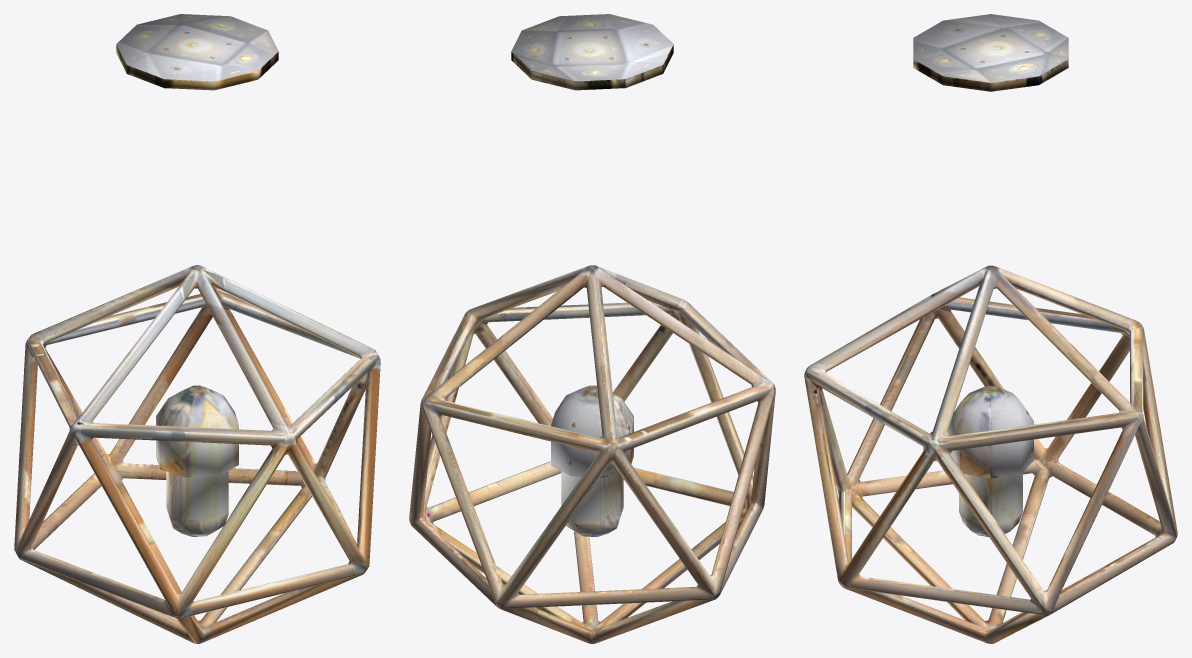
The model's file is celling_light.obj.
3 views of the same model, side by side, from view 1: azimuth 30°, elevation 25°; view 2: azimuth 150°, elevation 25°; view 3: azimuth 270°, elevation 25° (orthographic).
Parts seen in each view (by area): view 1: Mesh_0; view 2: Mesh_0; view 3: Mesh_0.
Part boxes in pixels (x1,y1,x2,y2): Mesh_0: (14, 14, 380, 643); Mesh_0: (409, 14, 775, 643); Mesh_0: (804, 14, 1177, 643).
Size of the model in its own units: 0.5448 by 1 by 0.5708.
